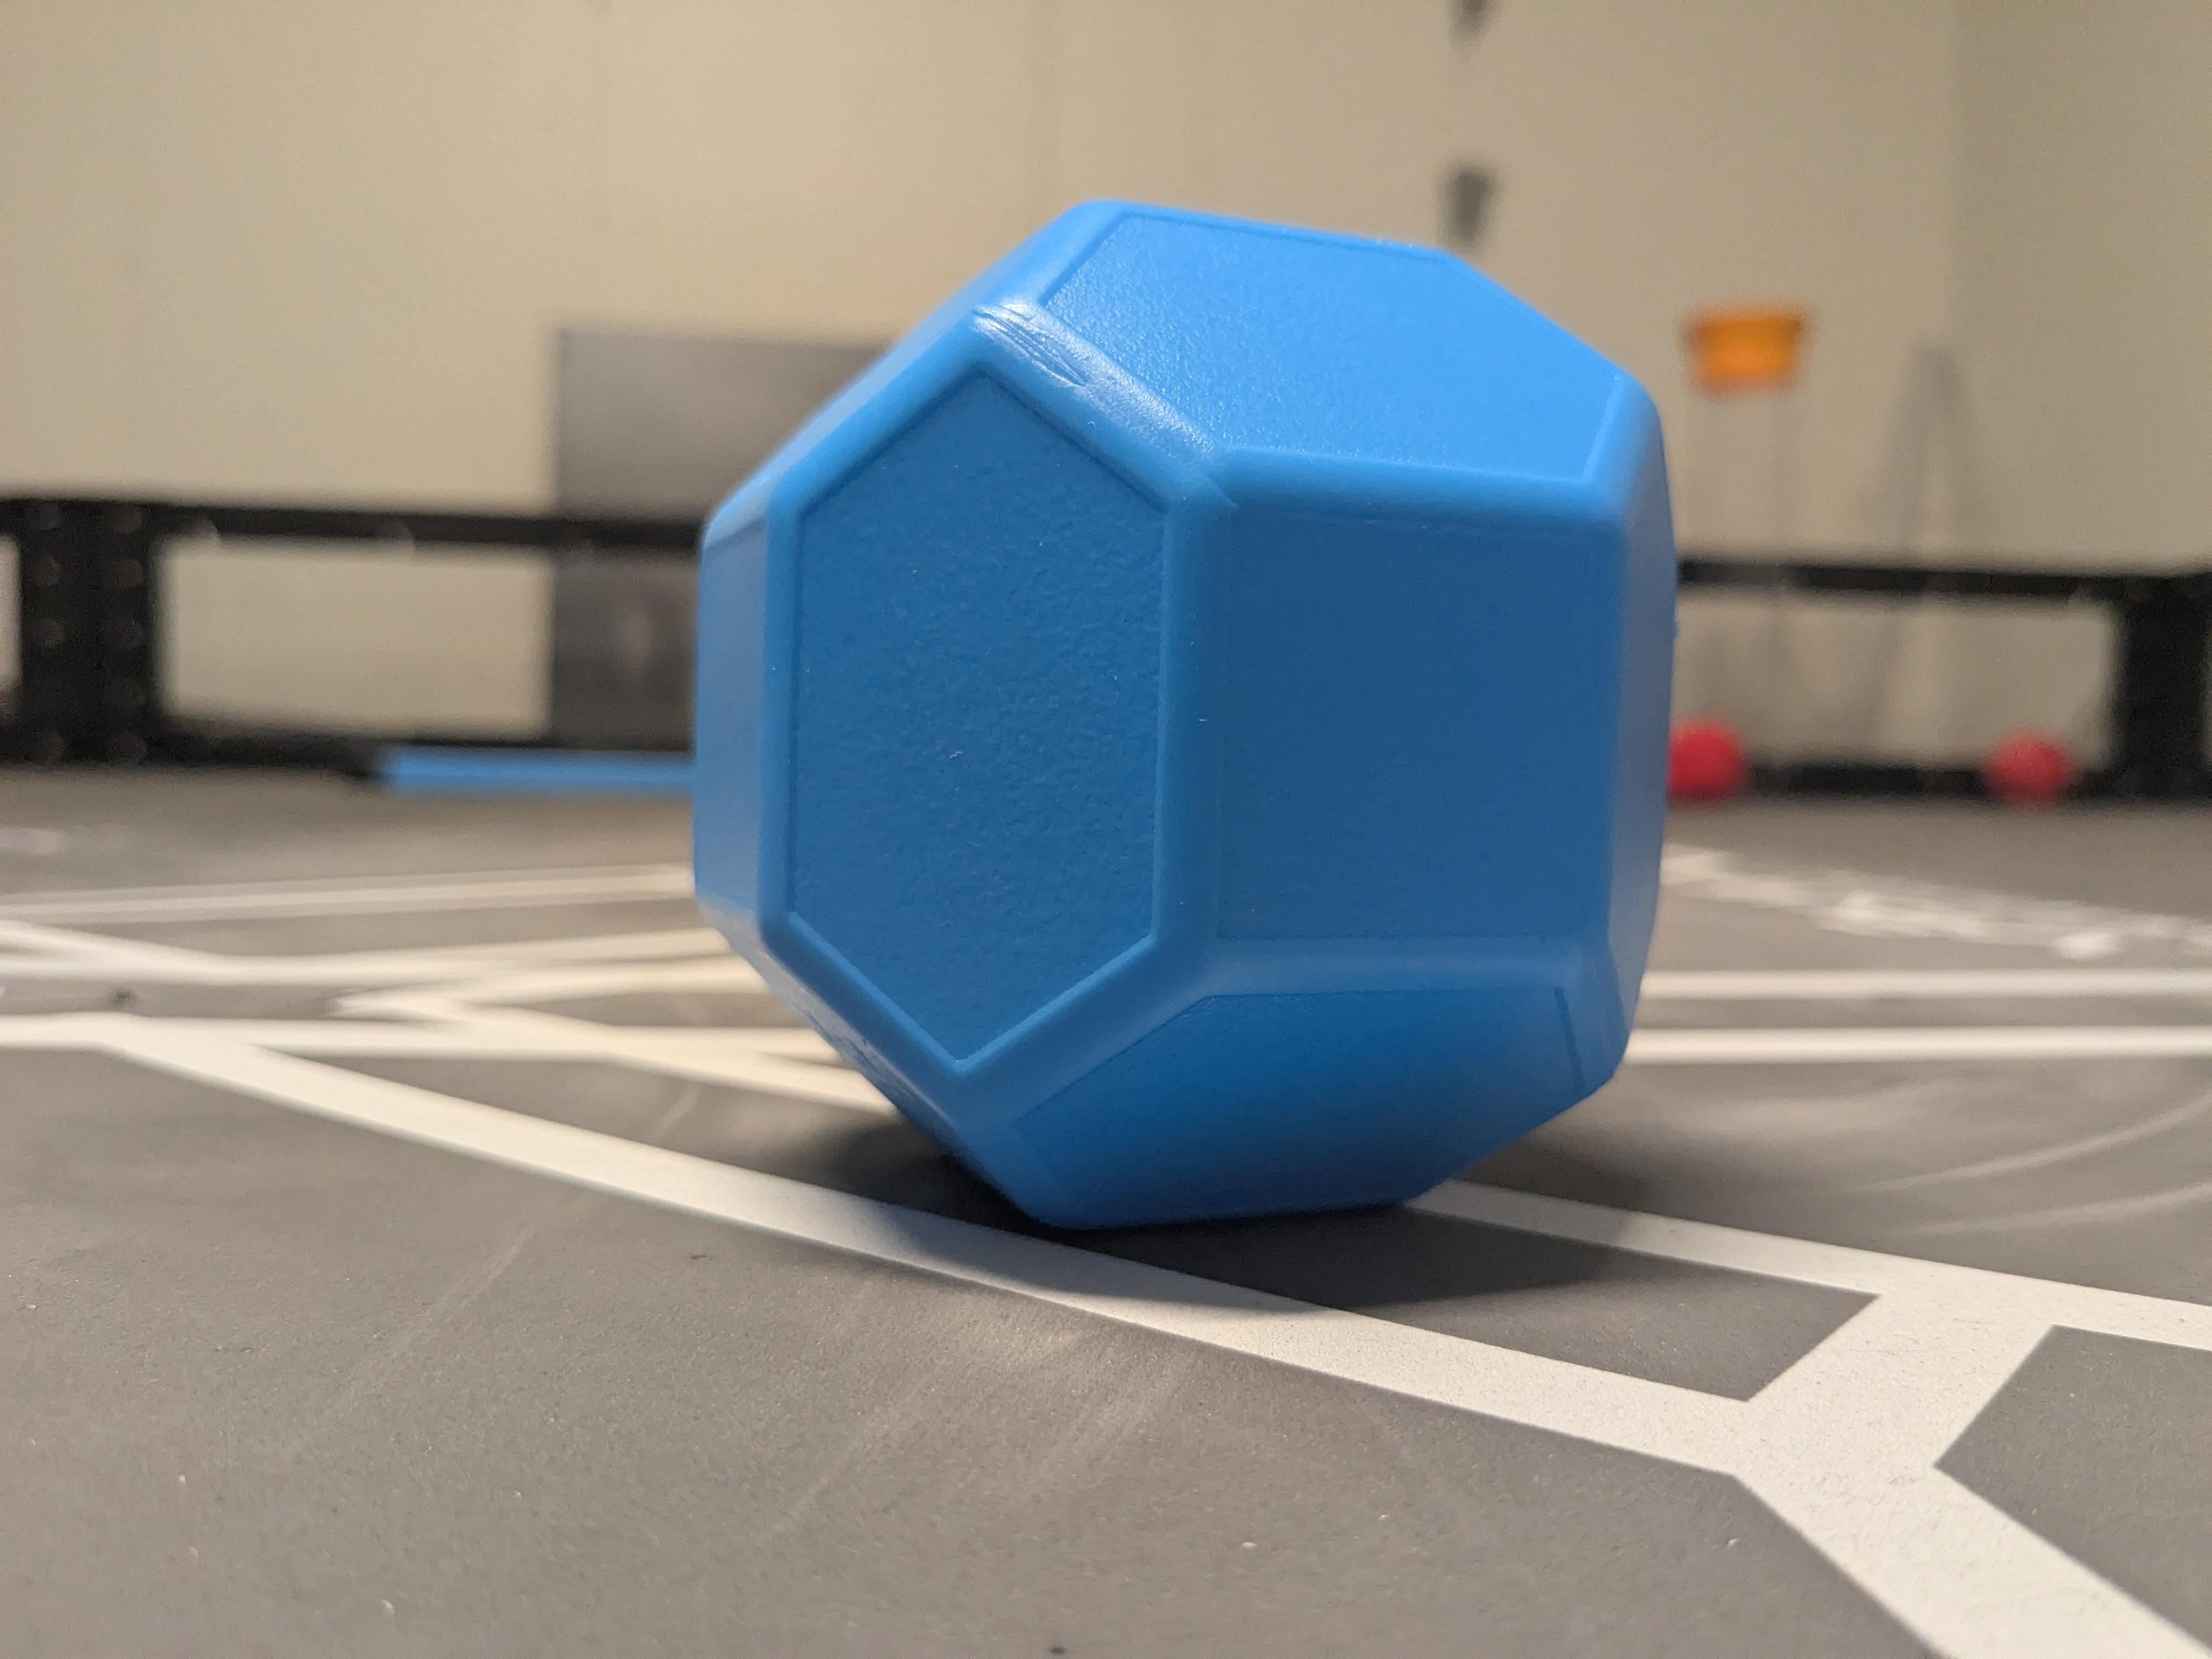Vex-Pieces-BLUE: (690, 202, 1676, 1225)
